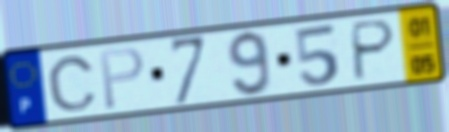5: (292, 21, 343, 89)
7: (169, 34, 211, 108)
9: (224, 28, 275, 99)
C: (45, 54, 100, 114)
P: (97, 44, 147, 113), (350, 17, 399, 84)
